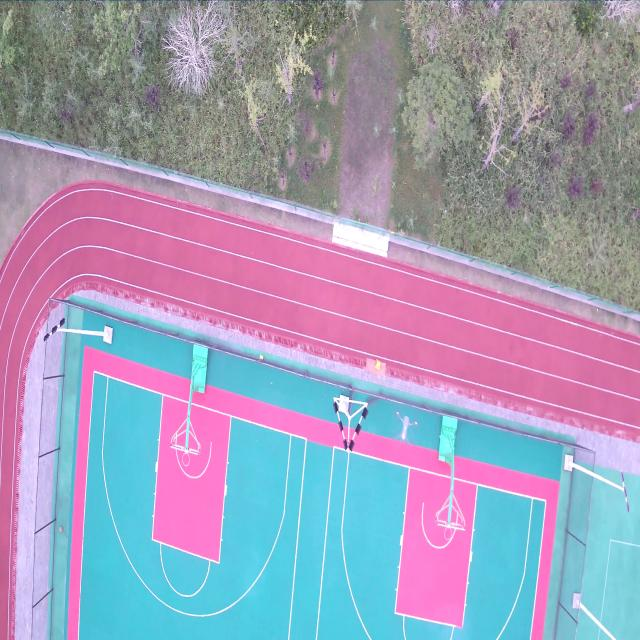UAV: (394, 410, 418, 450)
